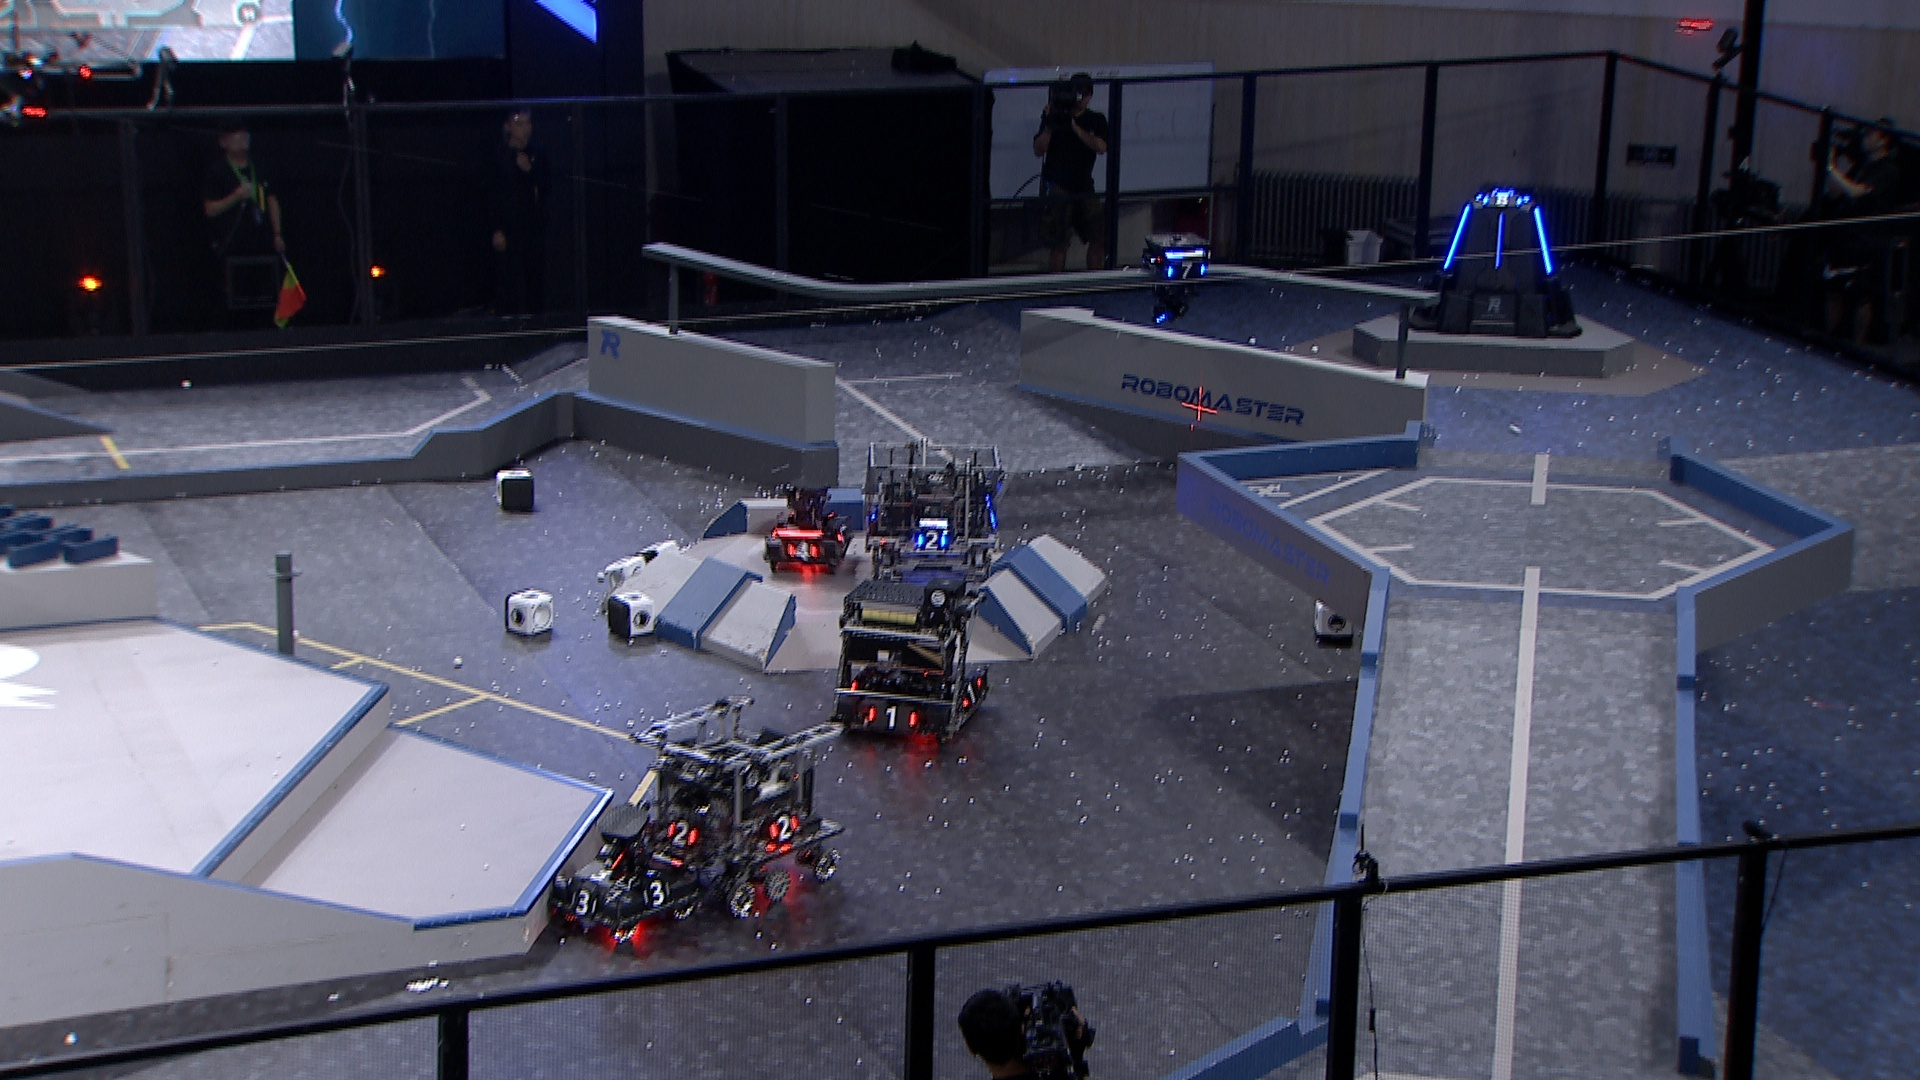armor: (1441, 204, 1472, 272), (866, 703, 920, 731), (1534, 206, 1555, 276), (582, 864, 629, 887), (913, 527, 951, 553), (1163, 258, 1207, 280), (570, 887, 600, 916), (665, 822, 699, 847), (785, 541, 820, 564), (641, 878, 671, 906), (770, 814, 800, 841), (960, 676, 982, 711), (1494, 211, 1506, 272), (1480, 193, 1524, 208)
base: (1408, 186, 1585, 342)
car: (632, 698, 847, 920), (831, 578, 992, 746), (546, 803, 704, 945), (862, 438, 1004, 584), (757, 481, 855, 576)
watcher: (1139, 229, 1212, 323)
